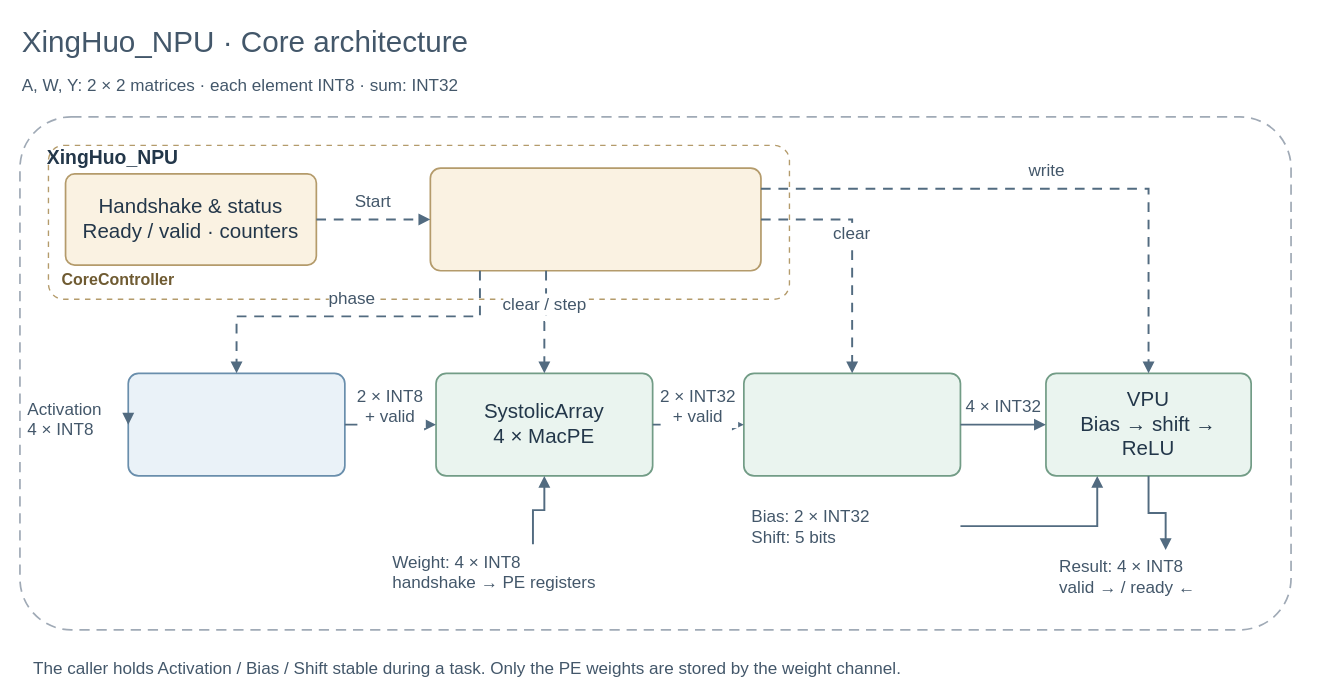
The diagram is 1328 pixels wide and 700 high, and some of its shapes have lost their labels. Each missing label, with the centre of its shape:
"ComputeSequencer Clear → run → collect → write" belongs at point (595, 219).
"MatrixFeeder Skewed inputs" belongs at point (236, 424).
"ResultCollector 4 × INT32 registers" belongs at point (851, 424).
